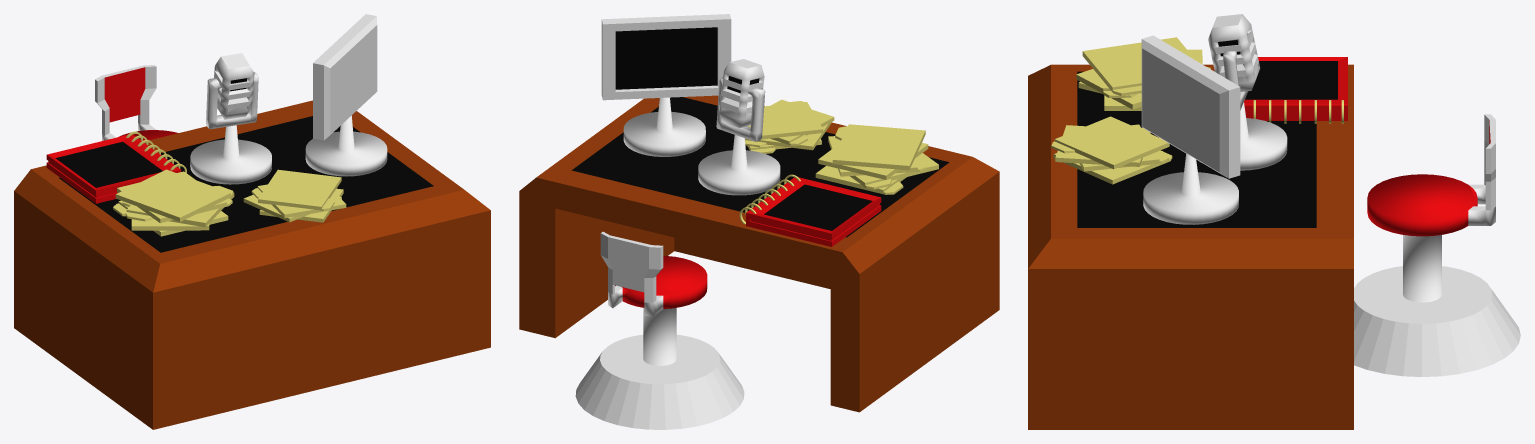
The model's file is Announcer.fbx.
3 views of the same model, side by side, from view 1: azimuth 30°, elevation 25°; view 2: azimuth 150°, elevation 25°; view 3: azimuth 270°, elevation 25° (orthographic). The views are drawn at different scales.
Visible parts, largest first — view 1: Cube; view 2: Cube; view 3: Cube.
Part boxes in pixels (x1,y1,x2,y2): Cube: [14, 14, 490, 429]; Cube: [519, 14, 999, 429]; Cube: [1028, 14, 1520, 429].
Bounding box in the file's own units: 1315 × 1033 × 1417.
